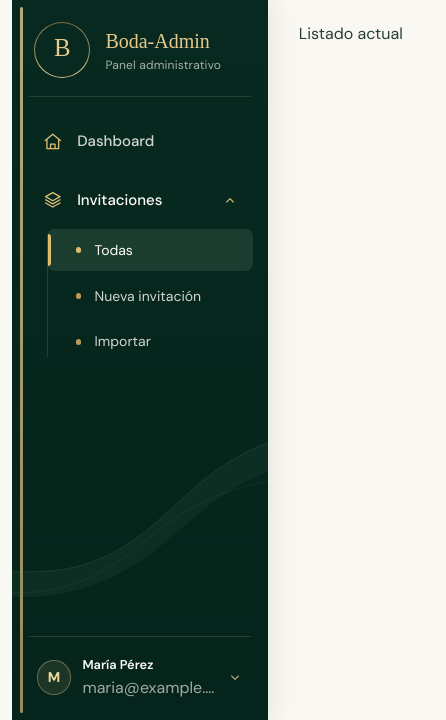
Test case: navegación responsive del Admin › navega al Dashboard desde Boda-Admin en el branding desktop
Click the text "Boda-Admin" at (163, 50), box x1=105 y1=26 x2=221 y2=73
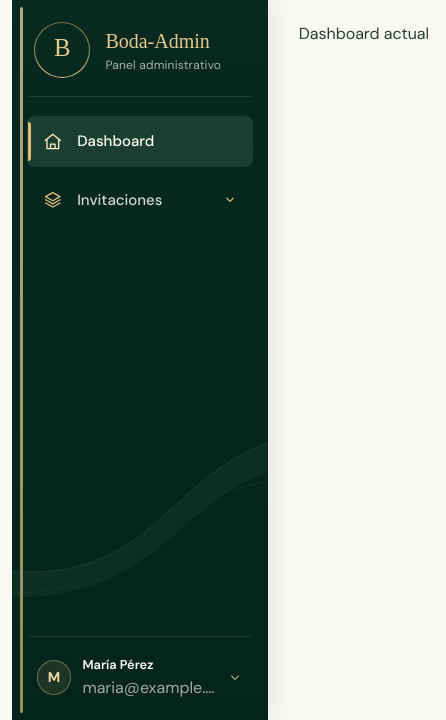
Check: the element showing "Dashboard actual" is shown, box x1=299 y1=23 x2=429 y2=44
